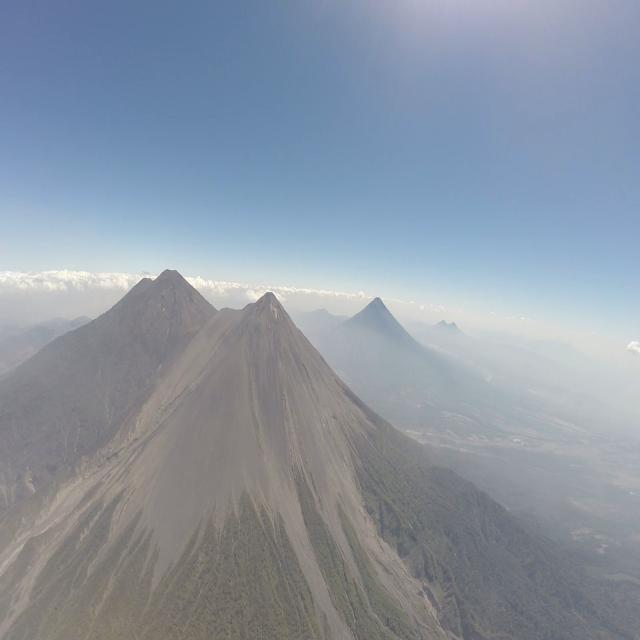Summit: (242, 290, 292, 322)
